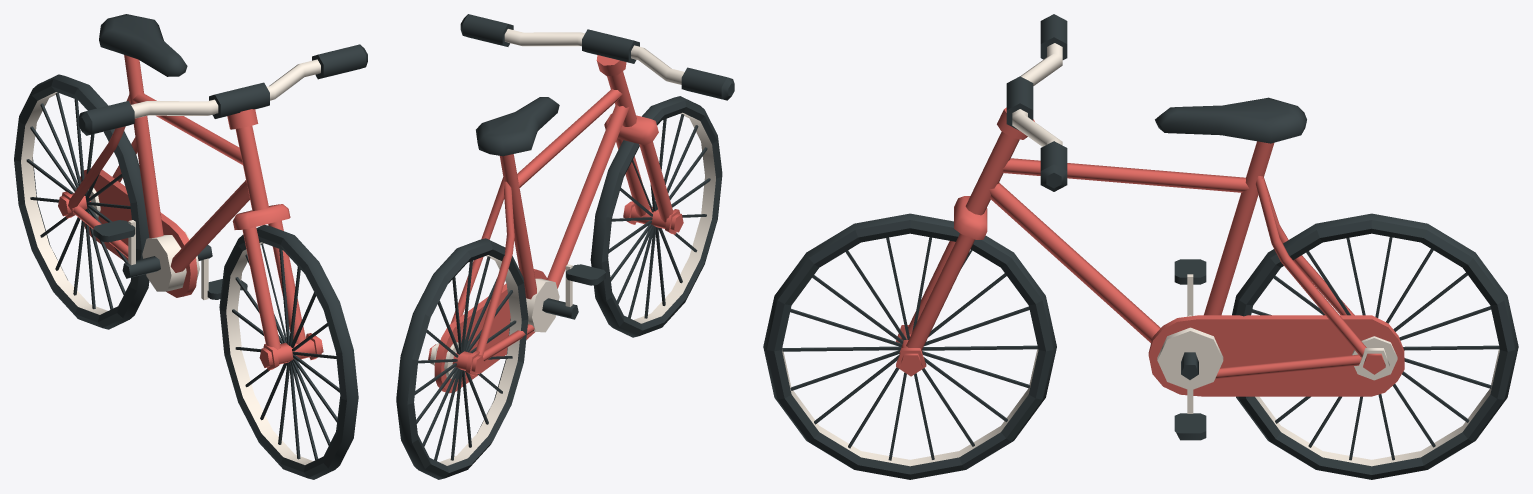
The model's file is Bicycle_01.fbx.
3 renders of one model, left to right at view 1: azimuth 30°, elevation 25°; view 2: azimuth 150°, elevation 25°; view 3: azimuth 270°, elevation 25°, orthographic. The views are drawn at different scales.
Visible parts, largest first — view 1: Bicycle_01; view 2: Bicycle_01; view 3: Bicycle_01.
Boxes of the visible parts, bbox=[...] form: Bicycle_01: bbox=[14, 14, 367, 479]; Bicycle_01: bbox=[396, 14, 734, 479]; Bicycle_01: bbox=[763, 14, 1518, 479].
Size of the model in its own units: 0.8567 by 1 by 1.76.
